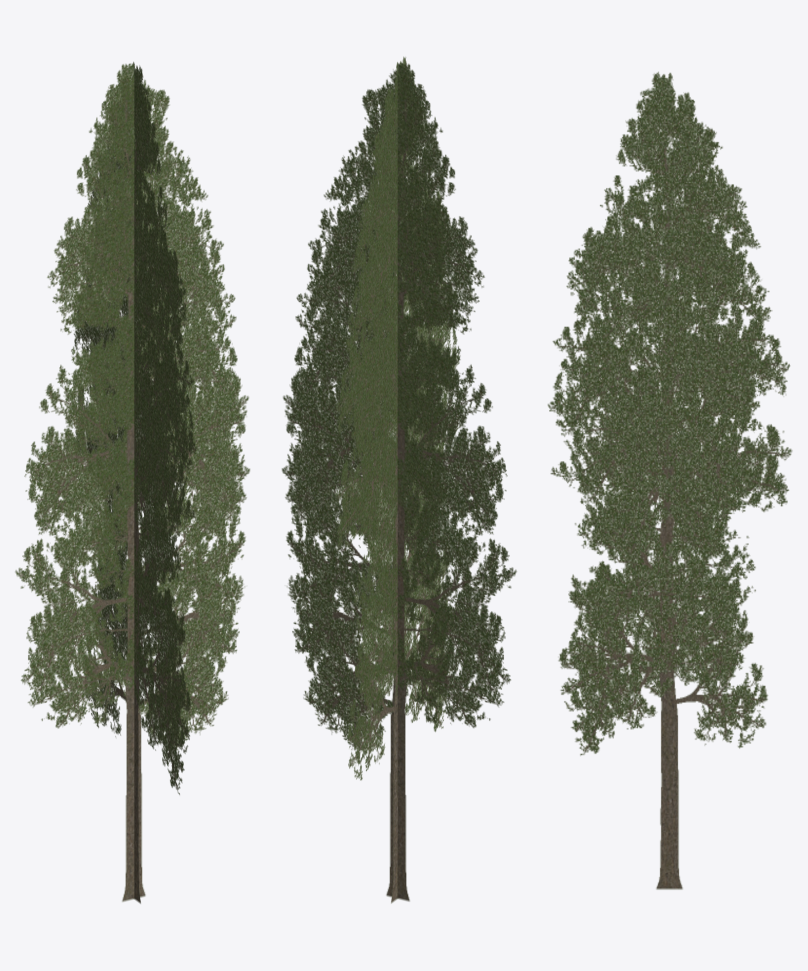
The model's file is PinusContorta.glb.
The picture shows the model from 3 angles, left to right: view 1: azimuth 30°, elevation 25°; view 2: azimuth 150°, elevation 25°; view 3: azimuth 270°, elevation 25°; orthographic projection. The views are drawn at different scales.
Parts seen in each view (by area): view 1: mesh__mat_billboard_9; view 2: mesh__mat_billboard_9; view 3: mesh__mat_billboard_9.
Part boxes in pixels (x1,y1,x2,y2): mesh__mat_billboard_9: [15, 62, 249, 903]; mesh__mat_billboard_9: [282, 56, 516, 903]; mesh__mat_billboard_9: [547, 71, 792, 889].
Bounding box in the file's own units: 12.63 × 43.14 × 11.65.
Materials: 1 (1 with a texture image).
